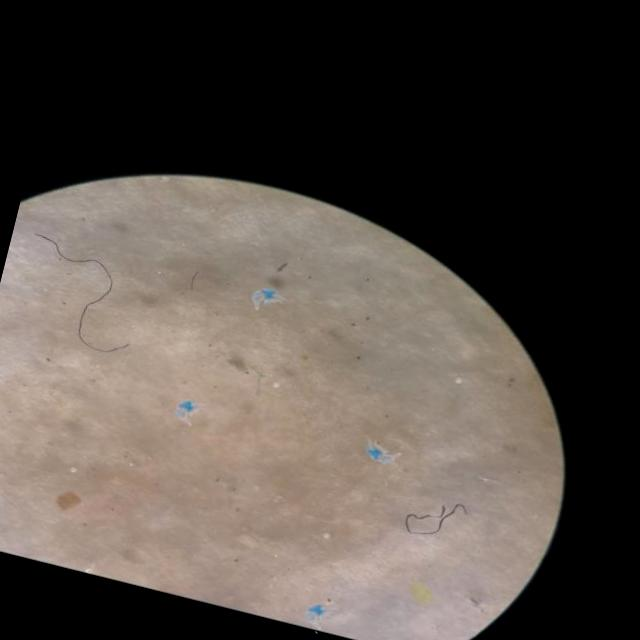fiber: (33, 234, 127, 352), (406, 503, 466, 533)
film: (365, 448, 398, 463), (253, 289, 278, 306), (307, 603, 327, 620), (178, 402, 195, 419)
fragment: (55, 490, 81, 510), (411, 583, 432, 602)
pellet: (323, 532, 330, 538), (456, 378, 462, 383), (273, 382, 279, 387)
